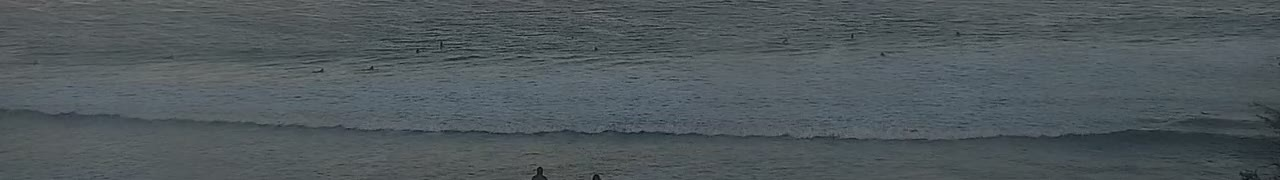Surfer: (362, 64, 378, 73), (877, 50, 889, 60), (411, 48, 425, 56), (437, 40, 446, 52), (311, 67, 326, 74), (952, 29, 965, 37), (849, 33, 857, 40), (591, 46, 599, 52)
